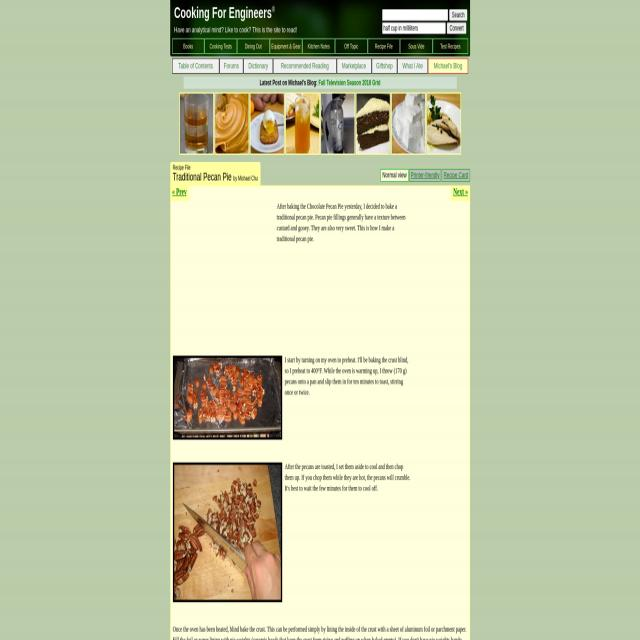button: (173, 462, 282, 602), (173, 356, 282, 439), (215, 93, 249, 154), (250, 93, 284, 154), (285, 93, 319, 154), (321, 93, 355, 154), (391, 93, 425, 154), (357, 92, 390, 153), (180, 93, 213, 154), (427, 93, 460, 154), (274, 58, 336, 73), (172, 58, 219, 73), (428, 58, 468, 73), (337, 58, 371, 73), (433, 39, 468, 53), (398, 58, 428, 73), (172, 39, 204, 53), (205, 39, 237, 53), (237, 39, 269, 53), (270, 39, 302, 53), (303, 39, 335, 53), (335, 39, 367, 53), (368, 39, 400, 53), (244, 58, 273, 73), (401, 39, 432, 53), (372, 58, 396, 73), (409, 170, 441, 181), (220, 58, 242, 73), (442, 170, 470, 181), (381, 170, 408, 180), (449, 9, 467, 21), (447, 23, 466, 34)
field: (382, 9, 448, 21), (382, 23, 446, 34)
